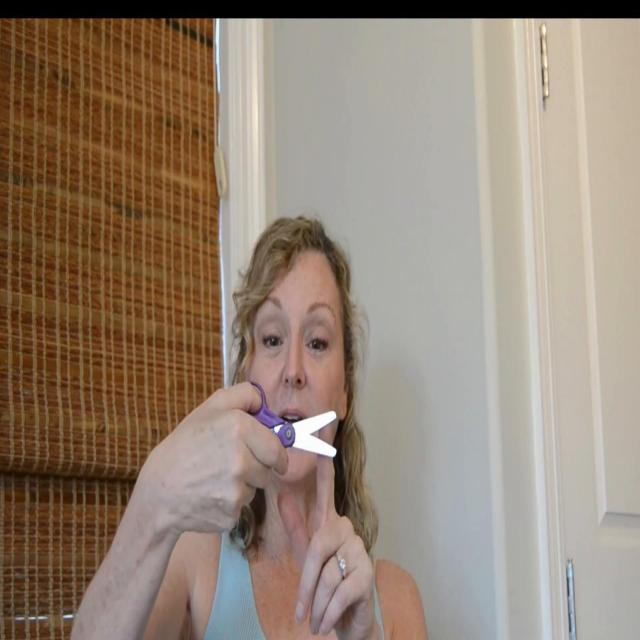scissor: (249, 382, 337, 457)
